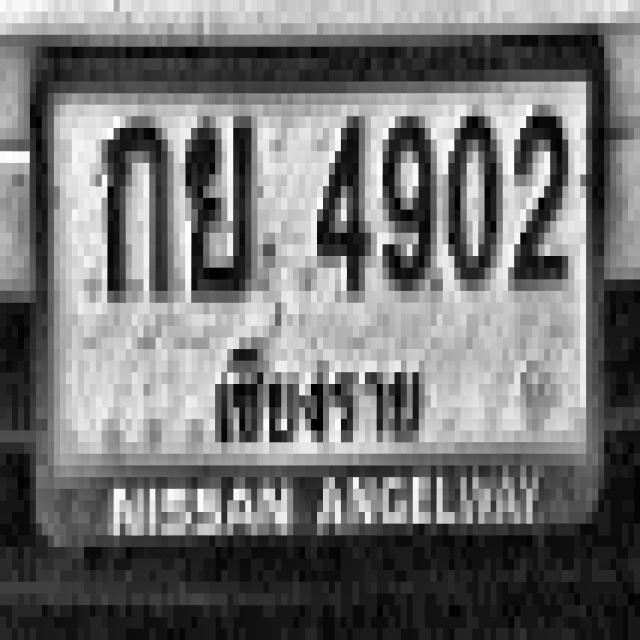license-plate: (25, 33, 600, 543)
